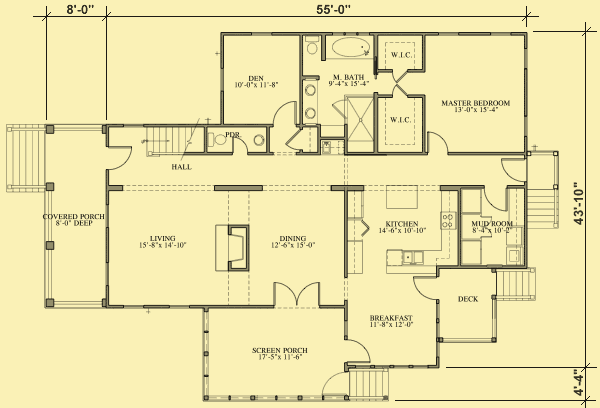kitchen has a cooking range and twin sink: (344, 183, 462, 281)
master bathroom has a tub with small and large sink with shower and closets: (298, 33, 424, 155)
open area has staircase: (104, 123, 209, 199)
small bathroom has a small and large sink: (204, 122, 271, 158)
